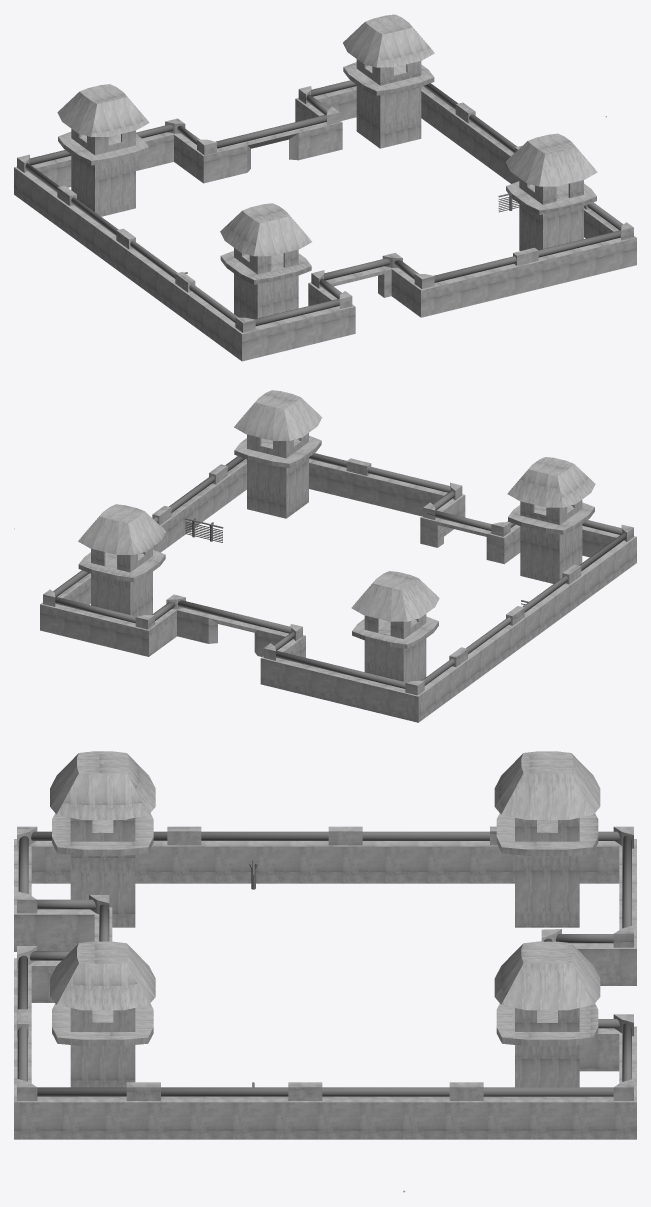
File: zatvorZidine.fbx
The picture shows the model from 3 angles, top to bottom: view 1: azimuth 30°, elevation 25°; view 2: azimuth 150°, elevation 25°; view 3: azimuth 270°, elevation 25°; orthographic projection. The views are drawn at different scales.
Parts seen in each view (by area): view 1: Cube.001; view 2: Cube.001; view 3: Cube.001.
Boxes of the visible parts, <box> form: Cube.001: <box>14,14,636,361</box>; Cube.001: <box>14,390,636,722</box>; Cube.001: <box>14,751,636,1192</box>.
Size of the model in its own units: 5198 by 1089 by 4049.
